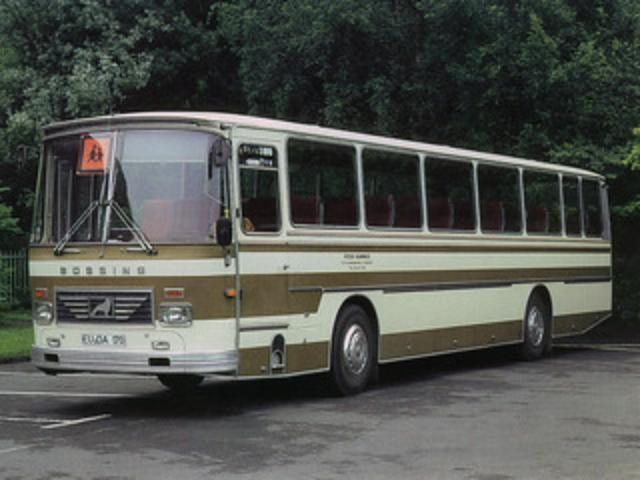bus: (30, 110, 614, 398)
